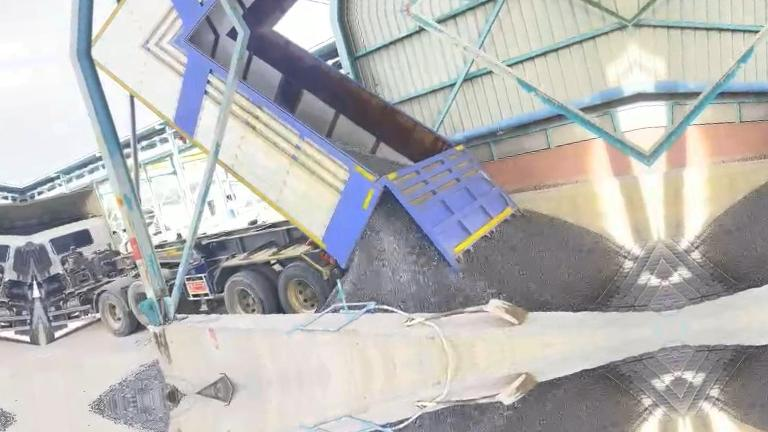gravel: (342, 191, 625, 312), (89, 360, 180, 406), (341, 142, 405, 175)
